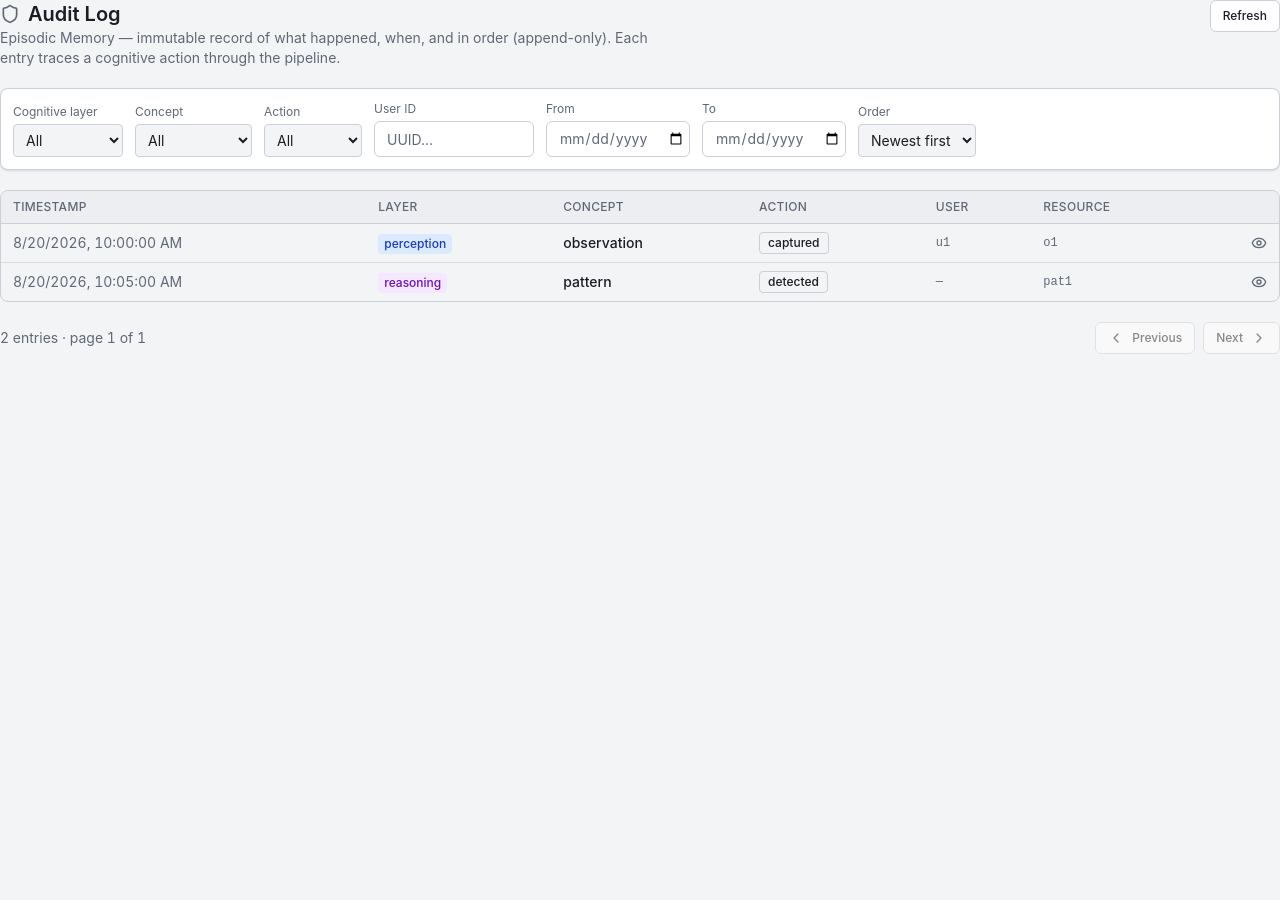
it: AuditPage › opens the detail drawer on row click
This screenshot has width=1280, height=900.
Click the text "perception".
click(415, 244)  # box [378,234,452,254]
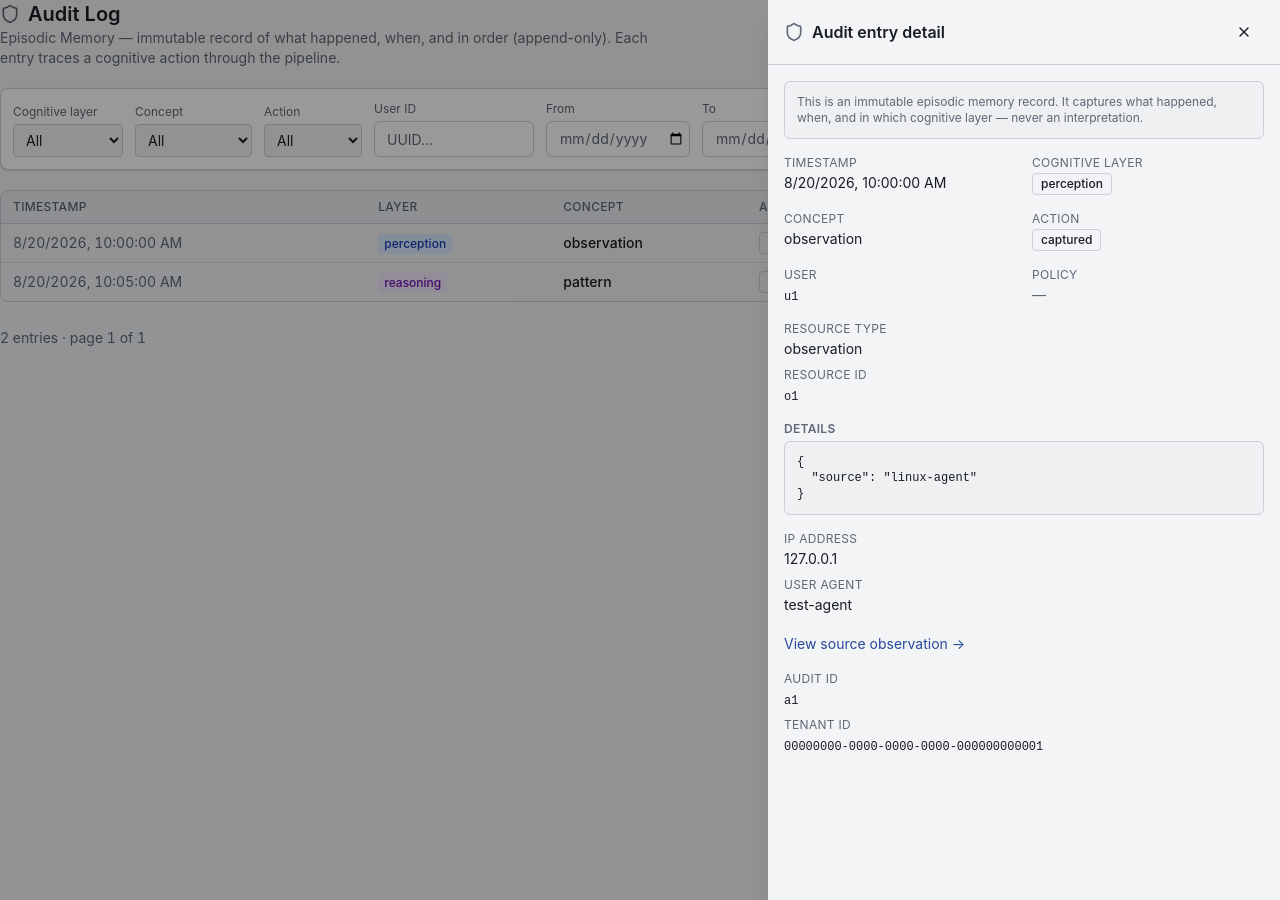
Expected: the heading "Details" is shown, [784,421,836,436]
Expected: the link "View source observation →" is shown, [784,634,965,654]
